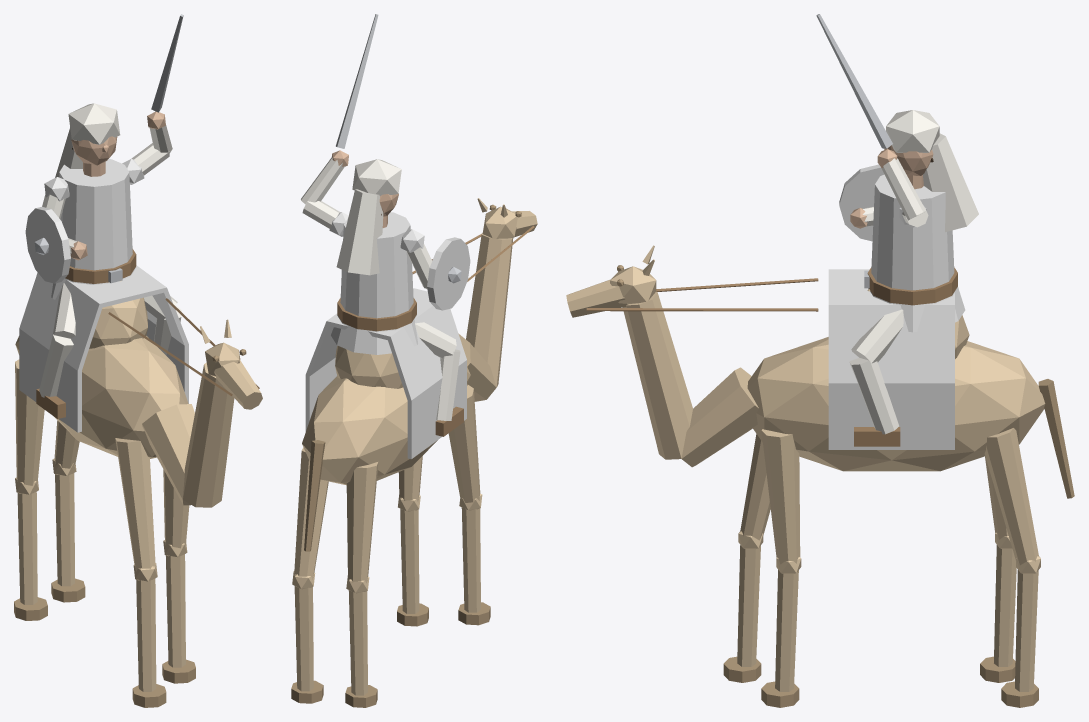
The model's file is civ_unit_camel_rider.glb.
The picture shows the model from 3 angles, left to right: view 1: azimuth 30°, elevation 25°; view 2: azimuth 150°, elevation 25°; view 3: azimuth 270°, elevation 25°; orthographic projection. The views are drawn at different scales.
Visible parts, largest first — view 1: civ_unit_camel_rider; view 2: civ_unit_camel_rider; view 3: civ_unit_camel_rider.
Boxes of the visible parts, <box> form: civ_unit_camel_rider: <box>14,14,262,707</box>; civ_unit_camel_rider: <box>291,14,537,707</box>; civ_unit_camel_rider: <box>566,14,1074,707</box>.
Size of the model in its own units: 0.8998 by 3.65 by 2.42.
